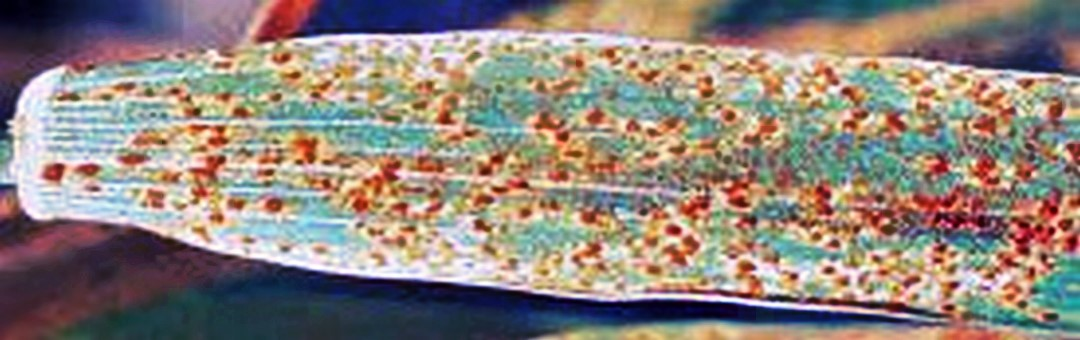Leaf Rust: (112, 39, 973, 316)
